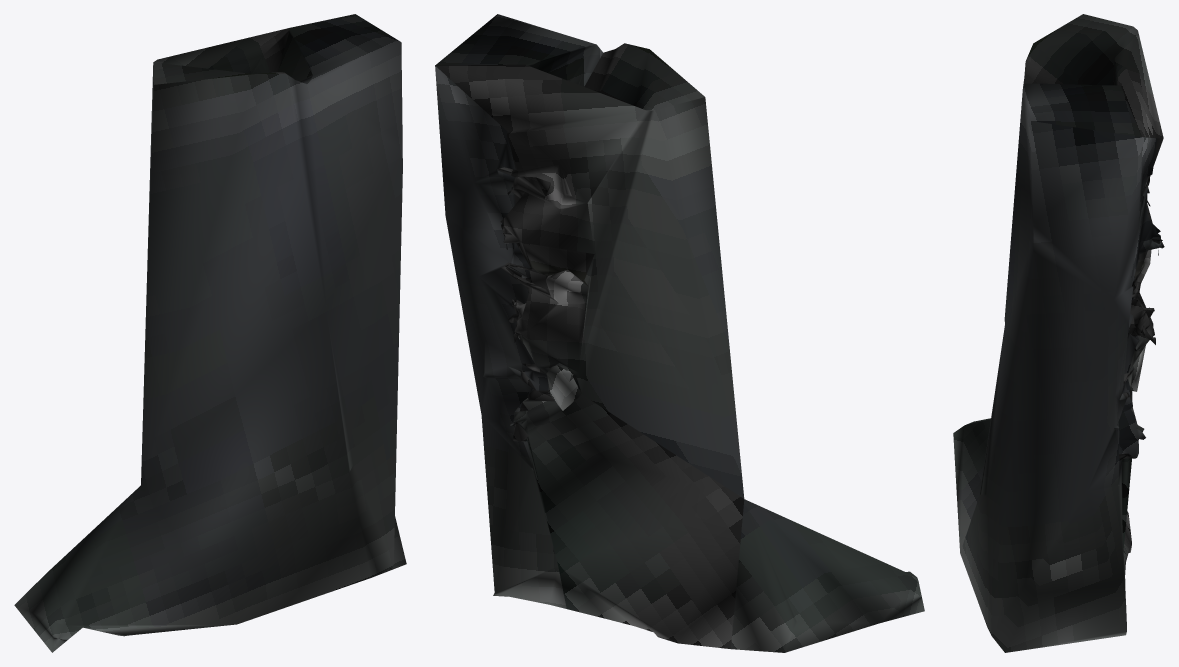
File: UGG_Bailey_Button_Triplet_Womens_Boots_Black_7-low.glb
The picture shows the model from 3 angles, left to right: view 1: azimuth 30°, elevation 25°; view 2: azimuth 150°, elevation 25°; view 3: azimuth 270°, elevation 25°; orthographic projection. The views are drawn at different scales.
Parts seen in each view (by area): view 1: UGG_Bailey_Button_Triplet_Womens_Boots_Black_7; view 2: UGG_Bailey_Button_Triplet_Womens_Boots_Black_7; view 3: UGG_Bailey_Button_Triplet_Womens_Boots_Black_7.
Part boxes in pixels (x1,y1,x2,y2): UGG_Bailey_Button_Triplet_Womens_Boots_Black_7: (14,14,406,652); UGG_Bailey_Button_Triplet_Womens_Boots_Black_7: (435,14,924,652); UGG_Bailey_Button_Triplet_Womens_Boots_Black_7: (953,14,1164,652).
Bounding box in the file's own units: 0.2615 × 0.3314 × 0.1177.
Materials: 1 (1 with a texture image).
